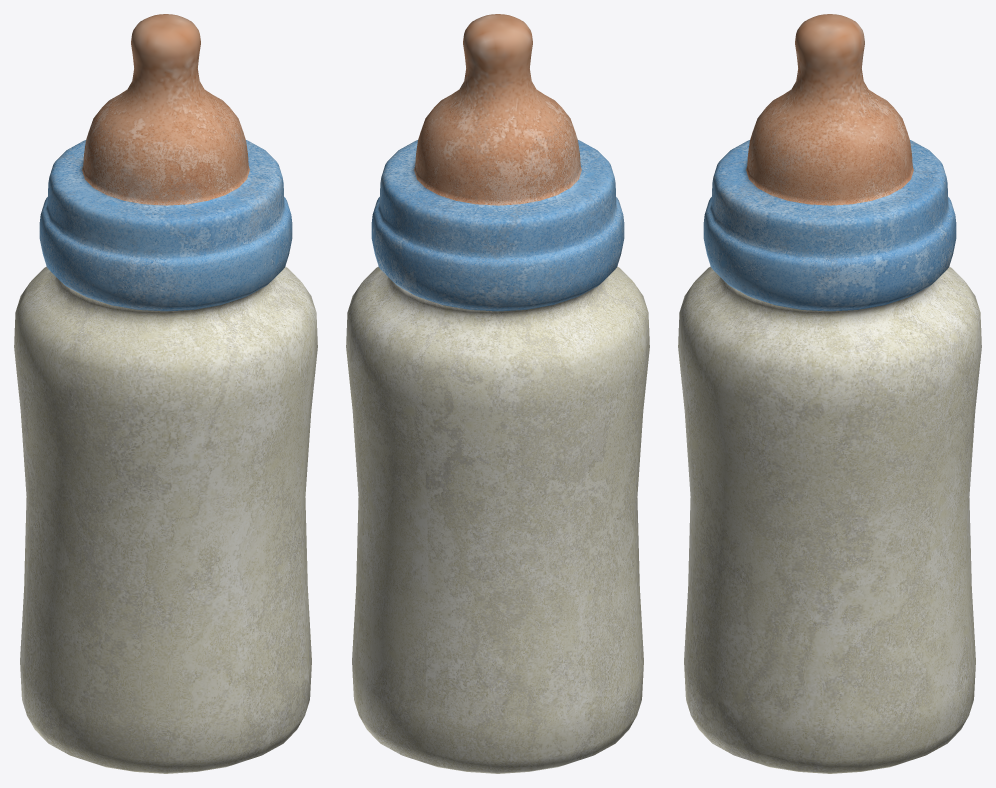
File: Baby Bottle.fbx
The picture shows the model from 3 angles, left to right: view 1: azimuth 30°, elevation 25°; view 2: azimuth 150°, elevation 25°; view 3: azimuth 270°, elevation 25°; orthographic projection.
Parts seen in each view (by area): view 1: Cylinder; view 2: Cylinder; view 3: Cylinder.
Boxes of the visible parts, bbox=[...] form: Cylinder: bbox=[14, 14, 317, 773]; Cylinder: bbox=[346, 14, 649, 773]; Cylinder: bbox=[678, 14, 981, 773].
Size of the model in its own units: 18.91 by 48.64 by 18.91.
Materials: 1 (1 with a texture image).
